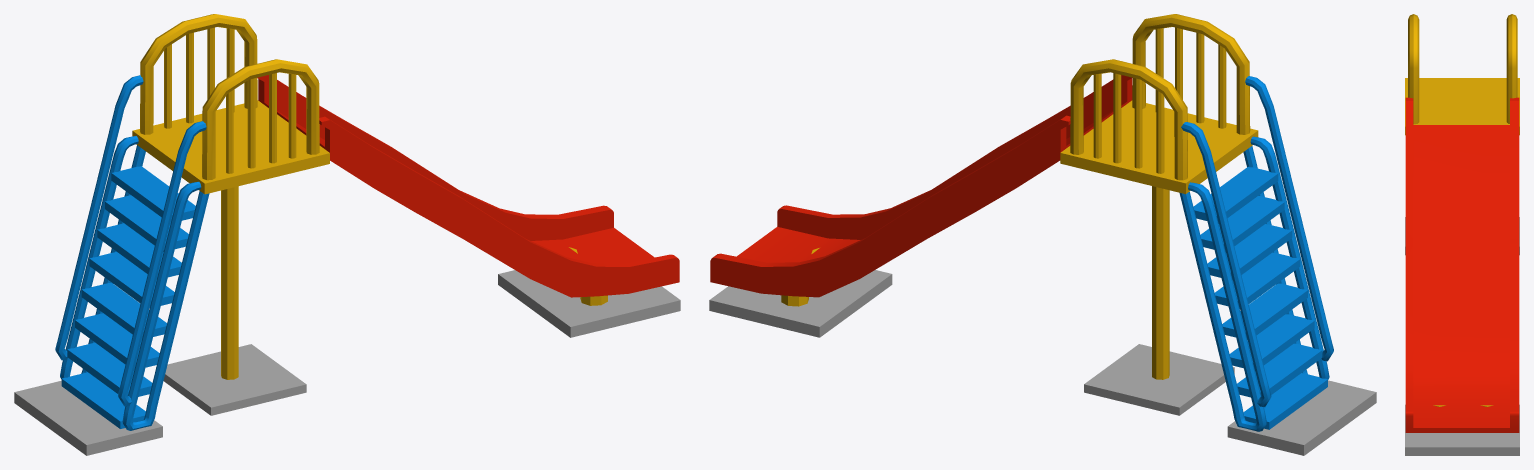
The model's file is Parent_Run_Slide.fbx.
The picture shows the model from 3 angles, left to right: view 1: azimuth 30°, elevation 25°; view 2: azimuth 150°, elevation 25°; view 3: azimuth 270°, elevation 25°; orthographic projection. The views are drawn at different scales.
Visible parts, largest first — view 1: Slide; view 2: Slide; view 3: Slide.
Part boxes in pixels (x1,y1,x2,y2): Slide: (14,14,680,455); Slide: (709,14,1376,455); Slide: (1405,14,1519,455).
Size of the model in its own units: 1039 by 576 by 219.
